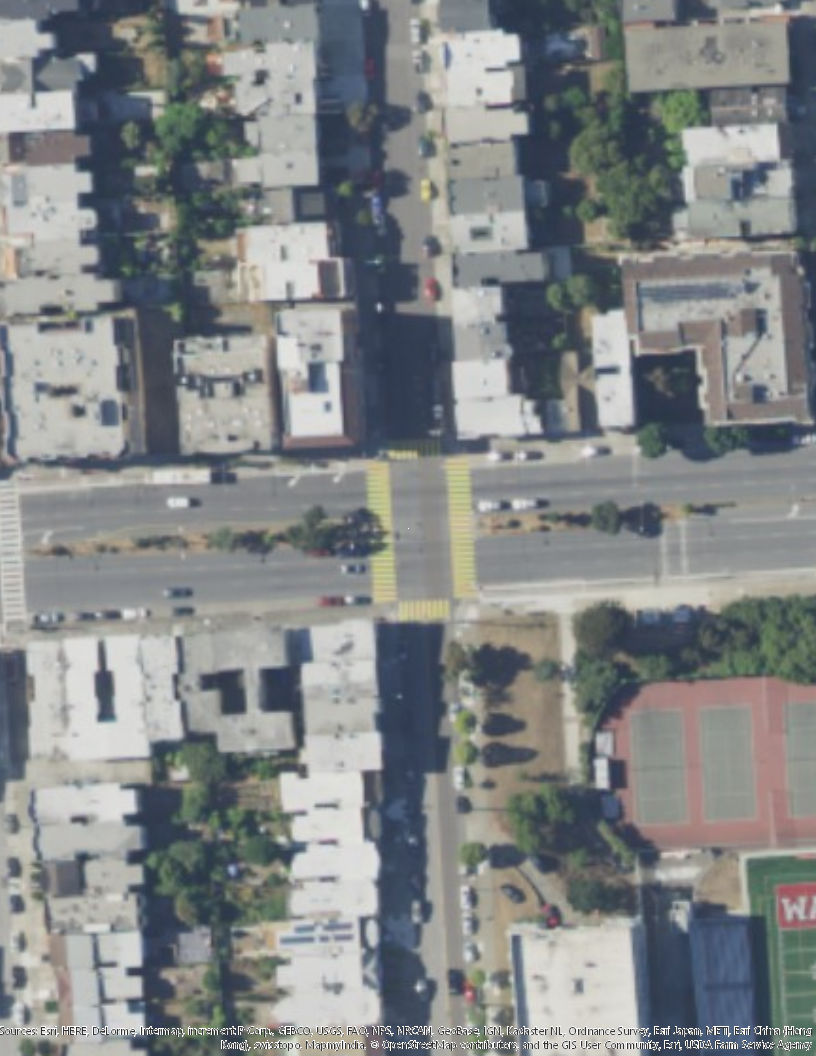zebracross: (442, 461, 481, 600), (368, 467, 399, 603), (1, 486, 30, 617), (384, 440, 445, 465), (397, 602, 452, 624)
